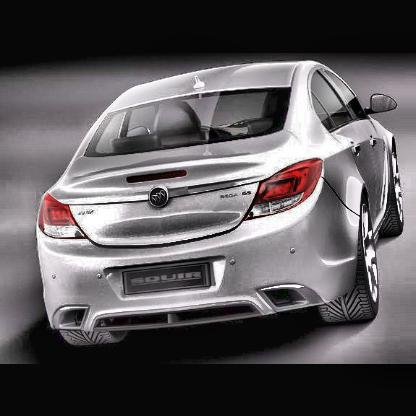Buick Regal GS 2012: (38, 64, 406, 349)
